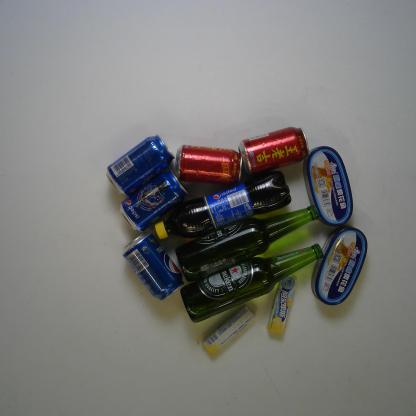Alcohol: (174, 203, 321, 283), (179, 243, 324, 324)
Candy: (201, 305, 257, 355), (267, 274, 298, 336)
Canned Food: (310, 224, 368, 306), (303, 143, 354, 228)
Drink: (152, 170, 292, 240), (105, 132, 176, 198), (118, 169, 191, 233), (121, 232, 185, 301), (237, 126, 309, 176), (173, 144, 244, 187)
